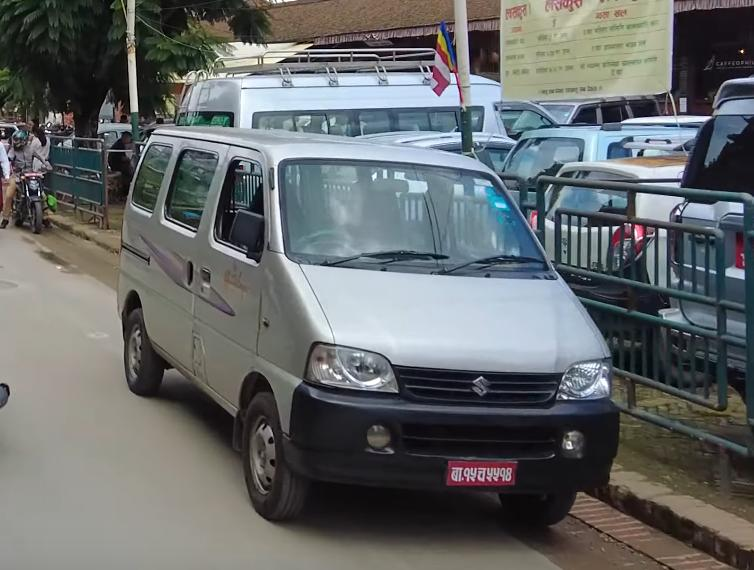SUV: (662, 64, 754, 425)
micro_bus: (178, 44, 542, 143)
van: (103, 121, 637, 534)
